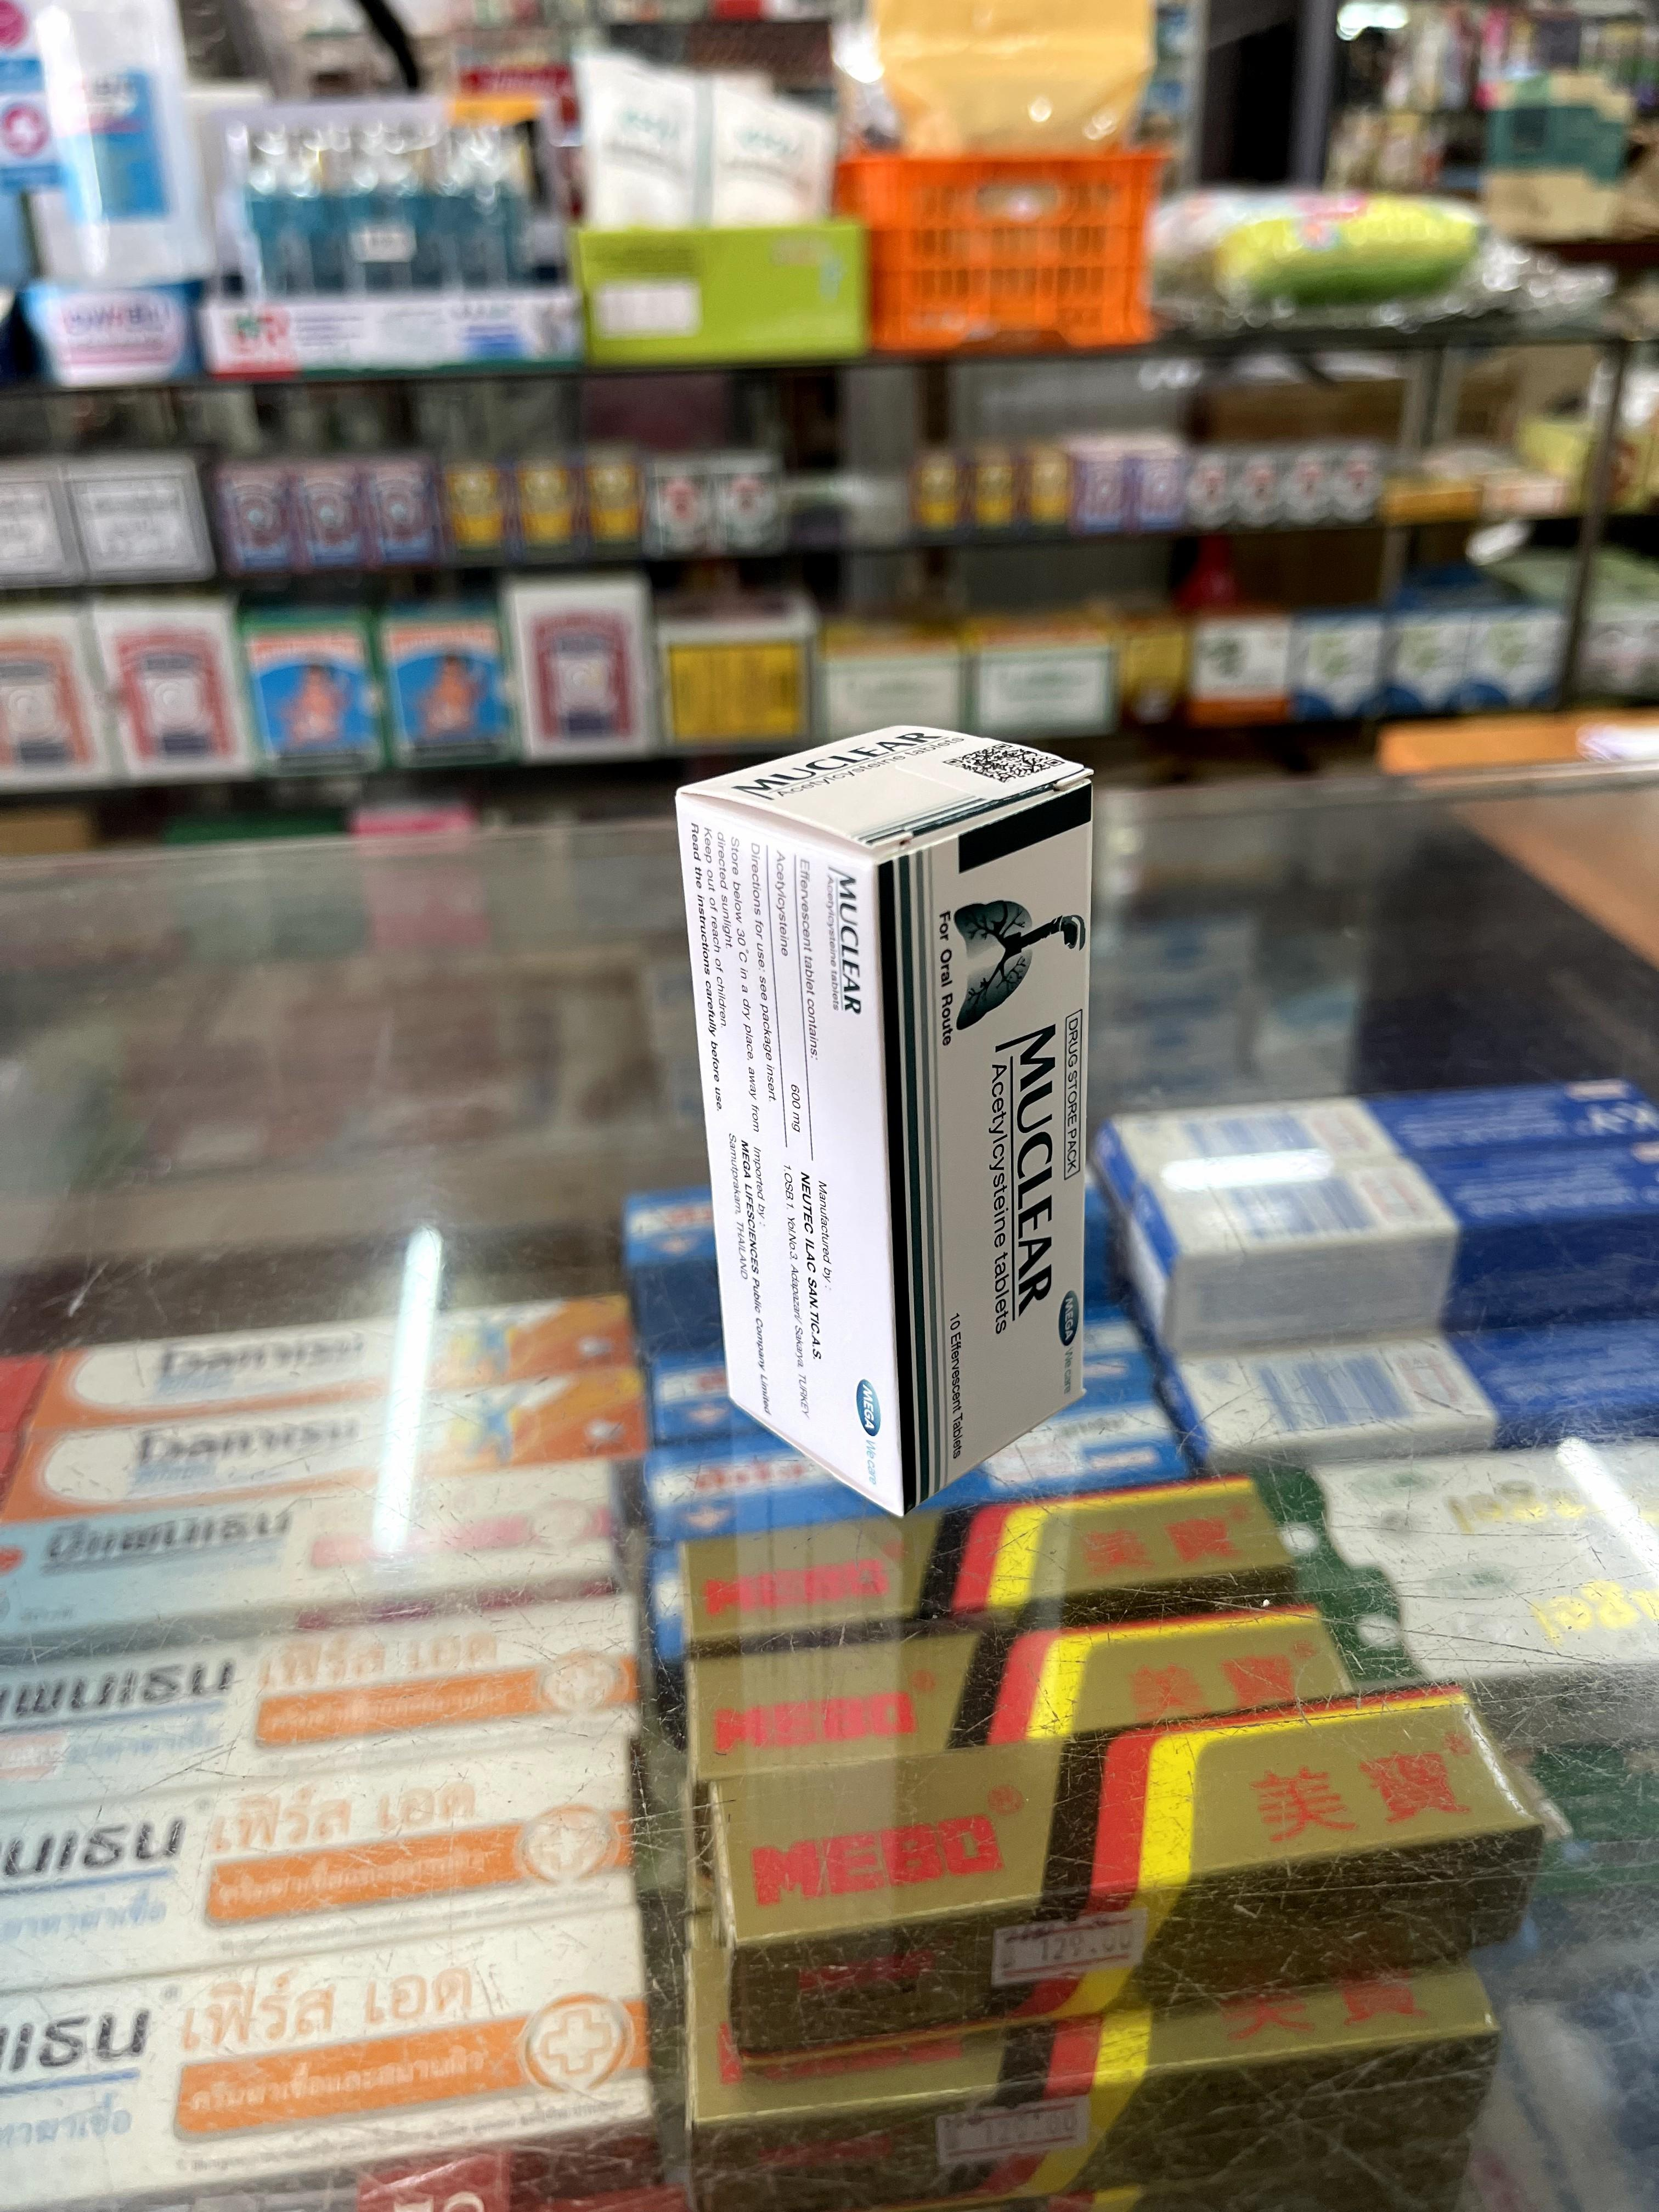Muclear: (674, 721, 1089, 1514)
